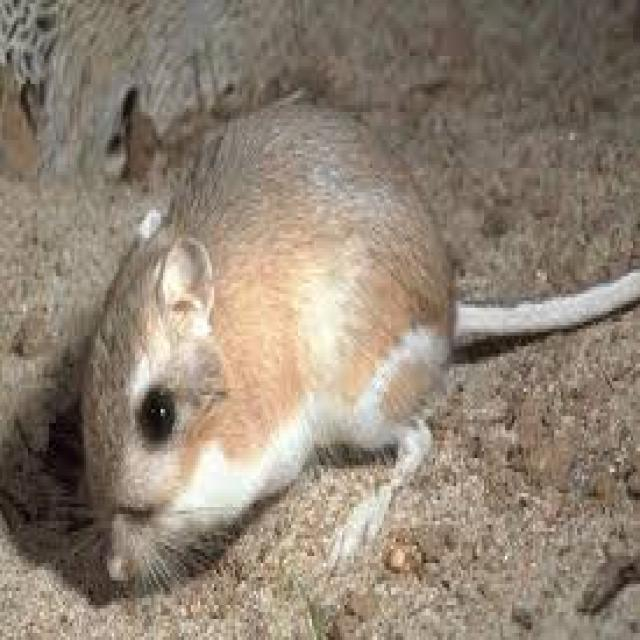Rat: (41, 73, 534, 602)
